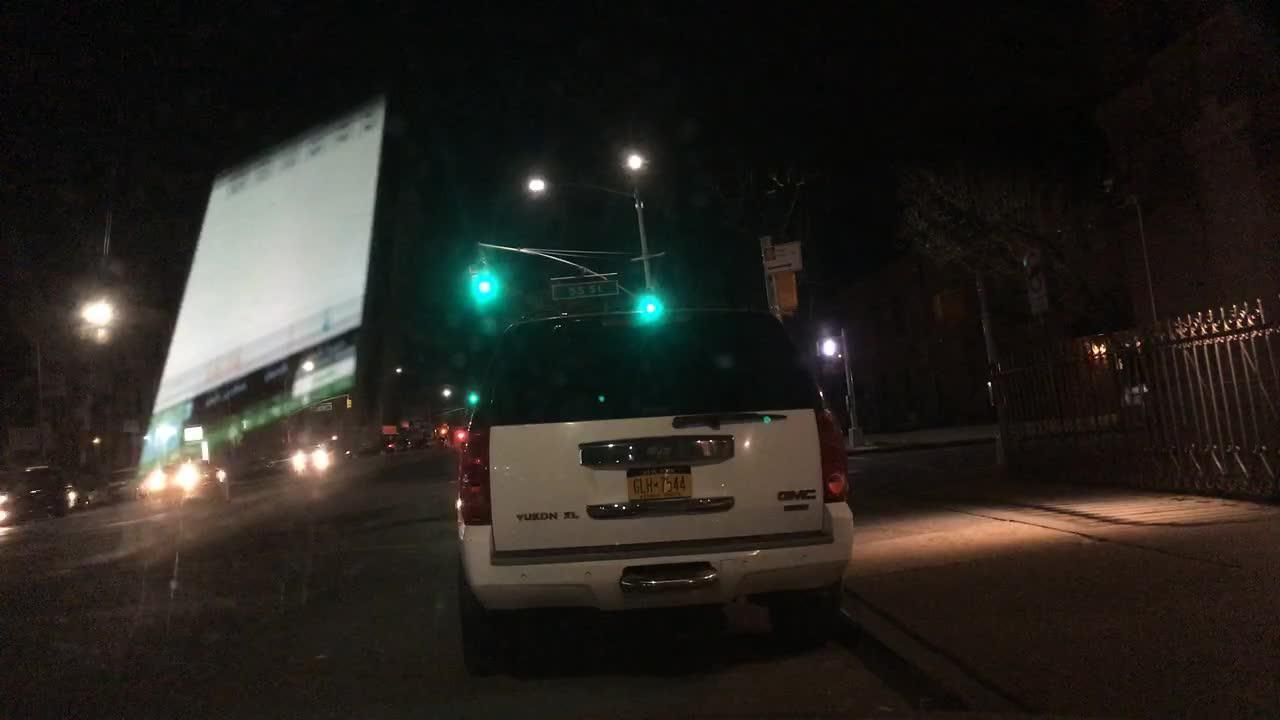GMC: (772, 486, 819, 504)
